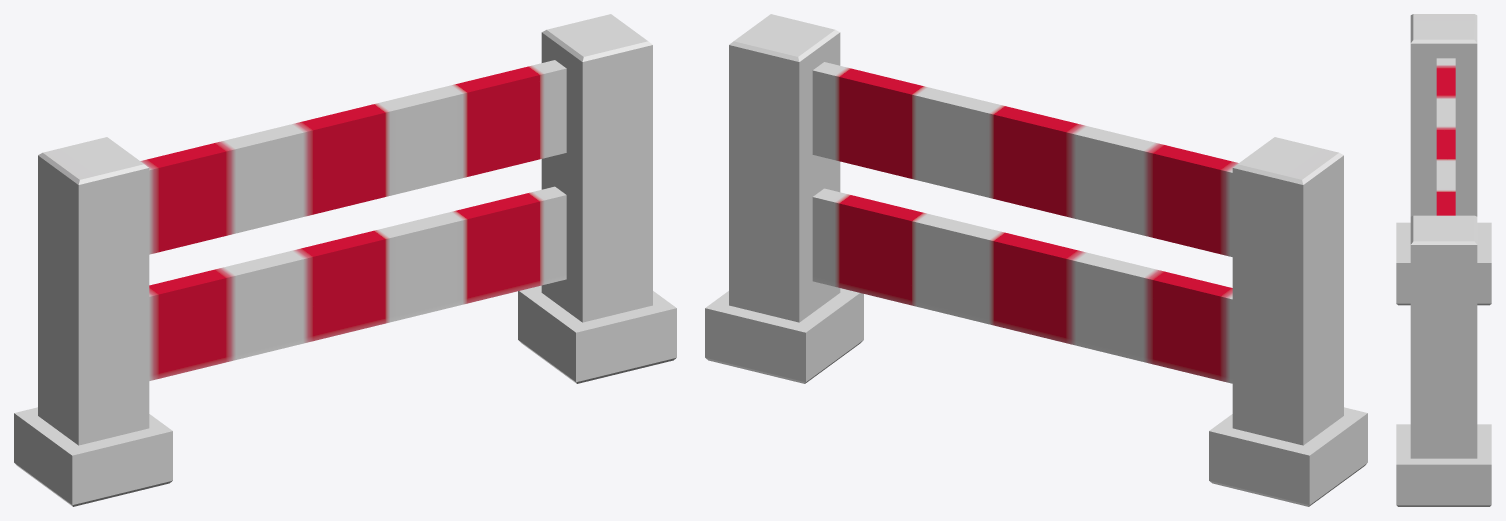
Rendered from Road_Fence_simple.FBX.
3 views of the same model, side by side, from view 1: azimuth 30°, elevation 25°; view 2: azimuth 150°, elevation 25°; view 3: azimuth 270°, elevation 25° (orthographic). The views are drawn at different scales.
Parts seen in each view (by area): view 1: Road_Fence_simple; view 2: Road_Fence_simple; view 3: Road_Fence_simple.
Boxes of the visible parts, left/top/right/bottom form: Road_Fence_simple: left=14, top=14, right=676, bottom=506; Road_Fence_simple: left=705, top=14, right=1367, bottom=506; Road_Fence_simple: left=1396, top=14, right=1491, bottom=506.
Size of the model in its own units: 600 by 100 by 300.
